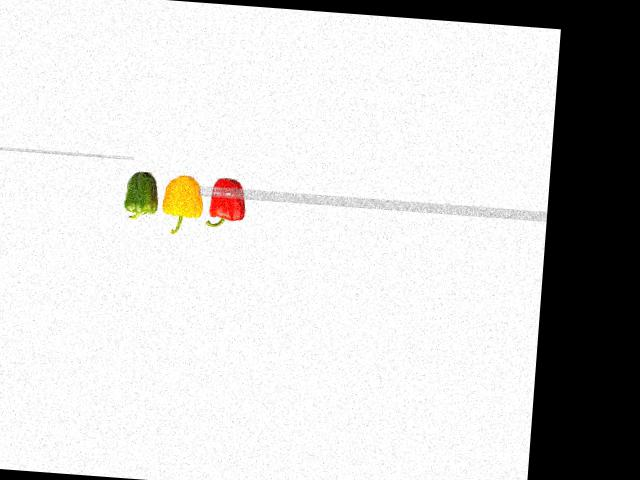bell_pepper: (118, 167, 159, 227)
